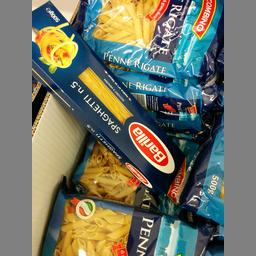pasta: (31, 0, 185, 197), (40, 184, 208, 255), (78, 0, 223, 78)
